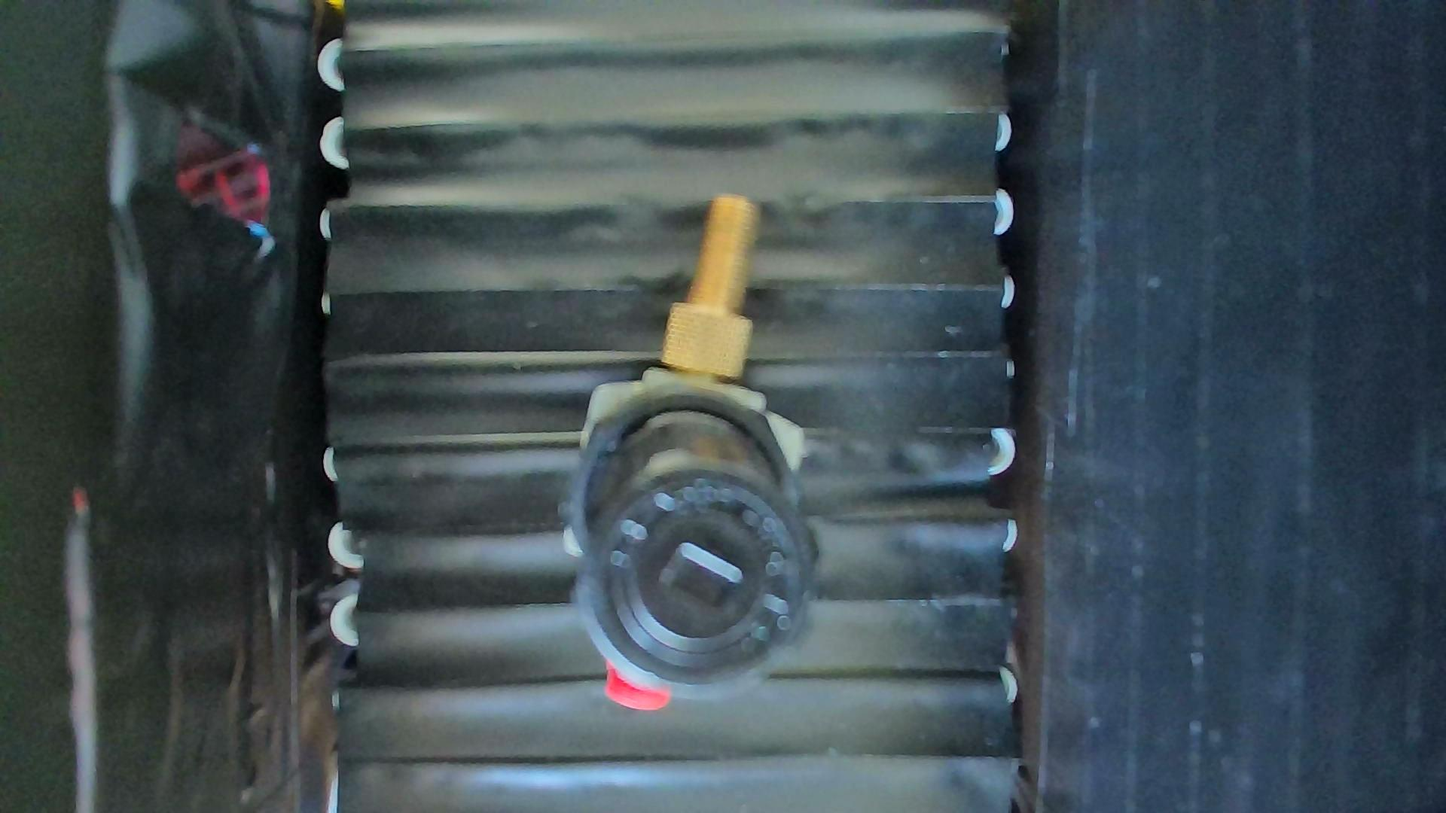regulator: (559, 195, 820, 715)
